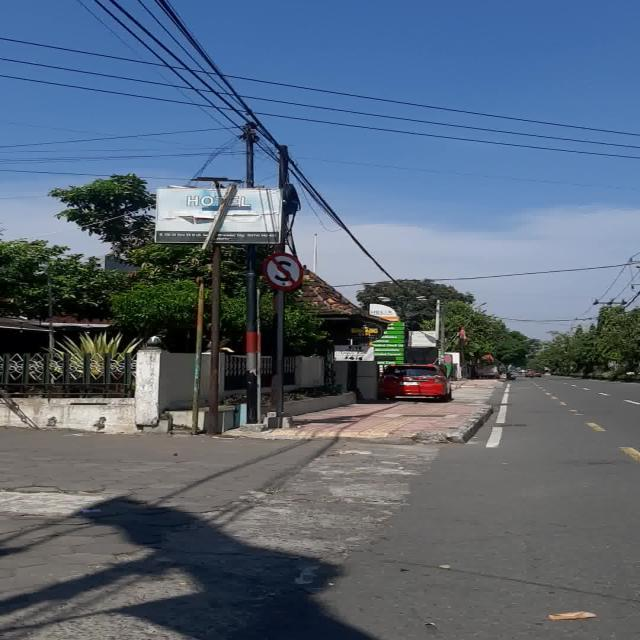Dilarang Berhenti: (263, 252, 303, 290)
